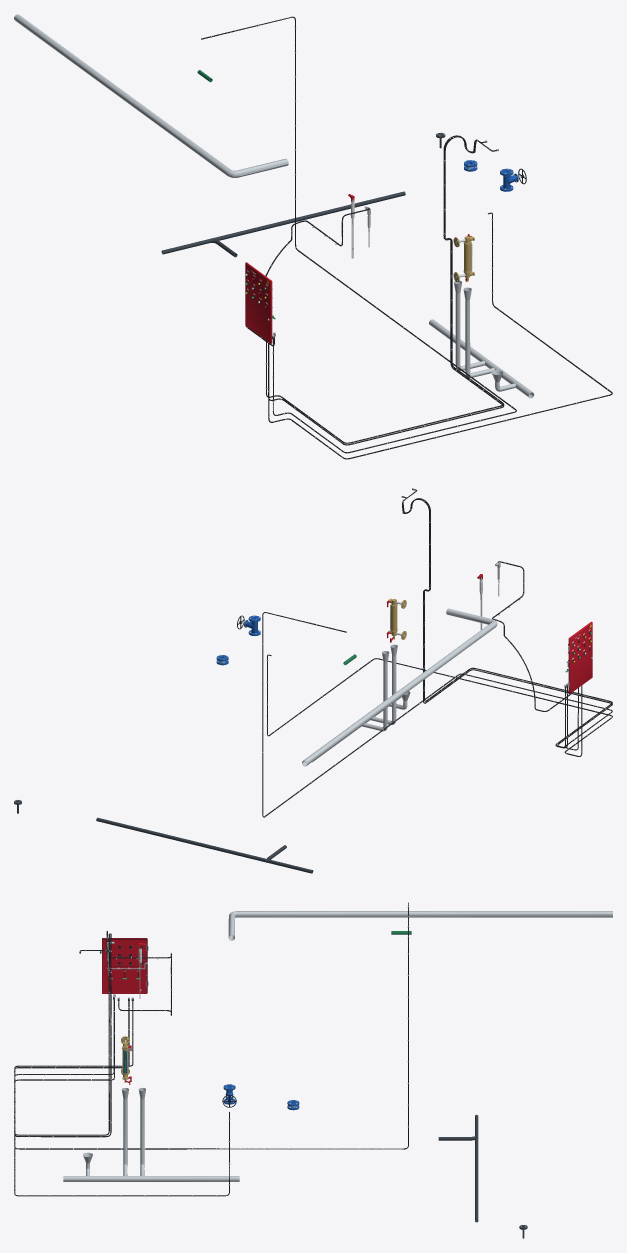
Rendered from s4000-4-U5taL_Xc.glb.
3 views of the same model, one above another, from view 1: azimuth 30°, elevation 25°; view 2: azimuth 150°, elevation 25°; view 3: azimuth 270°, elevation 25° (orthographic). The views are drawn at different scales.
Visible parts, largest first — view 1: safety_vent_1 / steel, local_open_drains / steel, cabinet_door / cabinet_door_5.npz, mod_eco_drive_cable / black, wiring_pressure_switch_2 / black, wiring_pump_1 / black, wiring_pressure_switch_1 / black, bottom_discharge / dark; view 2: safety_vent_1 / steel, cabinet_door / cabinet_door_5.npz, mod_eco_drive_cable / black, local_open_drains / steel, bottom_discharge / dark, wiring_pump_1 / black, wiring_pressure_switch_1 / black, wiring_pressure_switch_2 / black; view 3: safety_vent_1 / steel, cabinet_door / cabinet_door_5.npz, local_open_drains / steel, mod_eco_drive_cable / black, wiring_pressure_switch_2 / black, wiring_pressure_switch_1 / black, wiring_pump_1 / black.
Part boxes in pixels (box(x1,y1,x2,y2)): safety_vent_1 / steel: box(14, 14, 288, 177); local_open_drains / steel: box(429, 281, 534, 398); cabinet_door / cabinet_door_5.npz: box(245, 262, 272, 343); mod_eco_drive_cable / black: box(201, 16, 516, 453); wiring_pressure_switch_2 / black: box(266, 136, 504, 443); wiring_pump_1 / black: box(268, 212, 612, 459); wiring_pressure_switch_1 / black: box(268, 135, 504, 445); bottom_discharge / dark: box(162, 191, 405, 254); safety_vent_1 / steel: box(302, 608, 497, 766); cabinet_door / cabinet_door_5.npz: box(568, 621, 592, 694); mod_eco_drive_cable / black: box(262, 612, 612, 817); local_open_drains / steel: box(312, 644, 410, 762); bottom_discharge / dark: box(96, 817, 312, 873); wiring_pump_1 / black: box(267, 654, 612, 756); wiring_pressure_switch_1 / black: box(402, 489, 612, 748); wiring_pressure_switch_2 / black: box(403, 496, 612, 748); safety_vent_1 / steel: box(228, 911, 612, 940); cabinet_door / cabinet_door_5.npz: box(102, 938, 148, 993); local_open_drains / steel: box(63, 1087, 239, 1181); mod_eco_drive_cable / black: box(14, 902, 408, 1149); wiring_pressure_switch_2 / black: box(14, 934, 133, 1135); wiring_pressure_switch_1 / black: box(14, 933, 129, 1137); wiring_pump_1 / black: box(14, 1000, 229, 1196).
Size of the model in its own units: 4.97 by 2.92 by 7.03.
